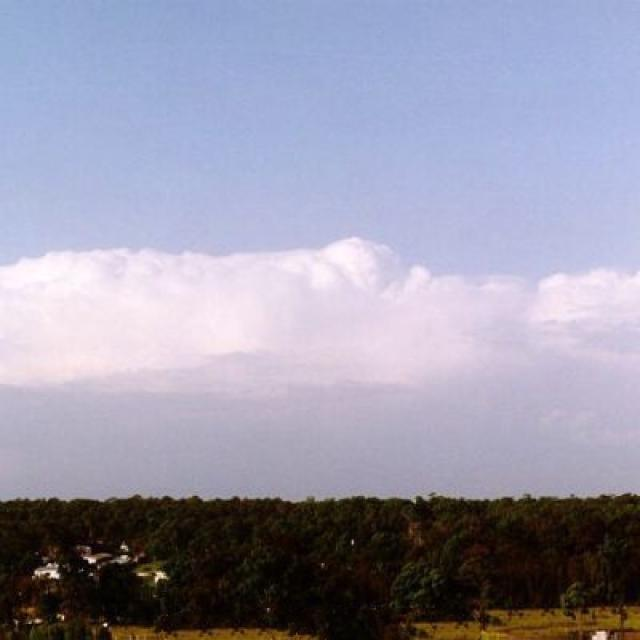Sc: (1, 232, 638, 434)
